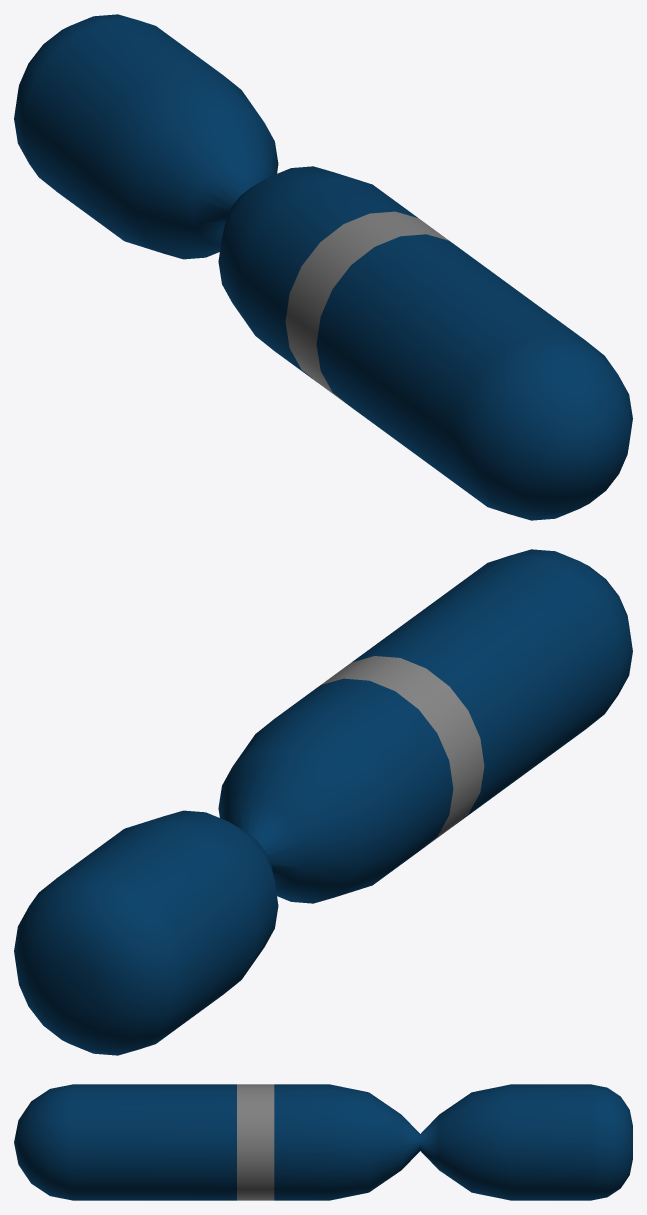
File: Chromosomes_r_white.gltf
The picture shows the model from 3 angles, top to bottom: view 1: azimuth 30°, elevation 25°; view 2: azimuth 150°, elevation 25°; view 3: azimuth 270°, elevation 25°; orthographic projection. The views are drawn at different scales.
Visible parts, largest first — view 1: Chromosomes_R; view 2: Chromosomes_R; view 3: Chromosomes_R.
Boxes of the visible parts, x1=… form: Chromosomes_R: x1=14, y1=14, x2=632, y2=520; Chromosomes_R: x1=14, y1=549, x2=632, y2=1055; Chromosomes_R: x1=14, y1=1084, x2=632, y2=1200.
Bounding box in the file's own units: 0.8512 × 0.8512 × 4.51.
Materials: 1 (1 with a texture image).
